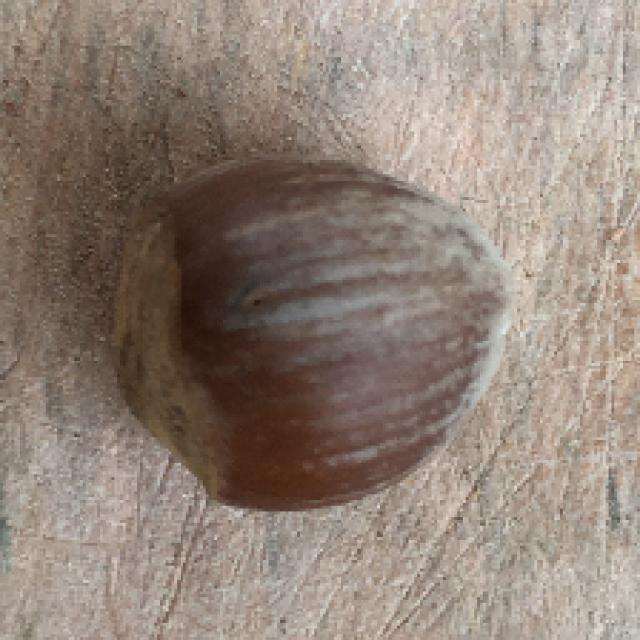damagedHazelnut: (108, 149, 525, 521)
